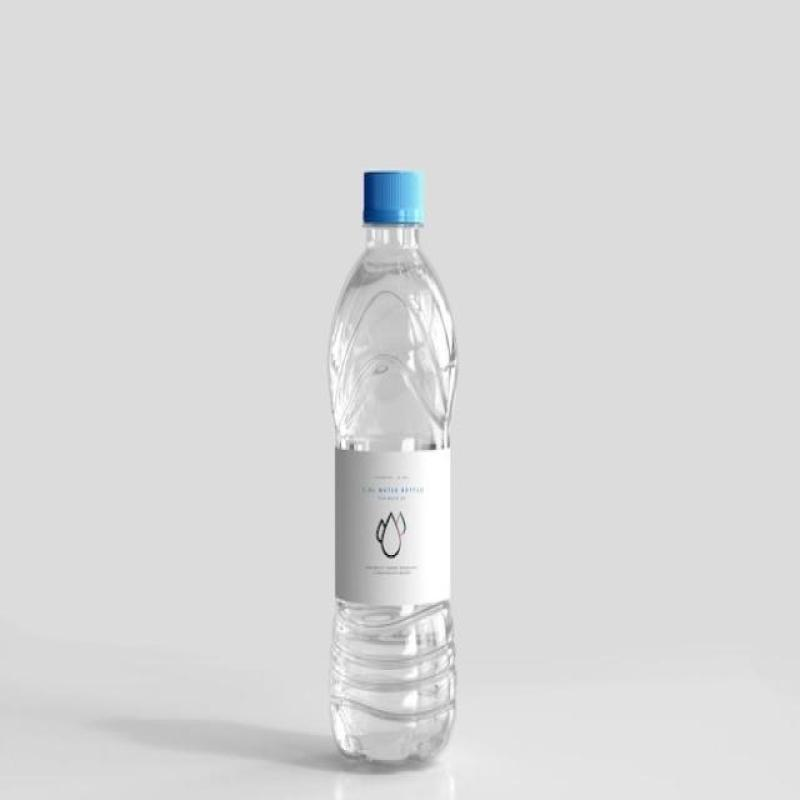botella: (330, 170, 458, 765)
